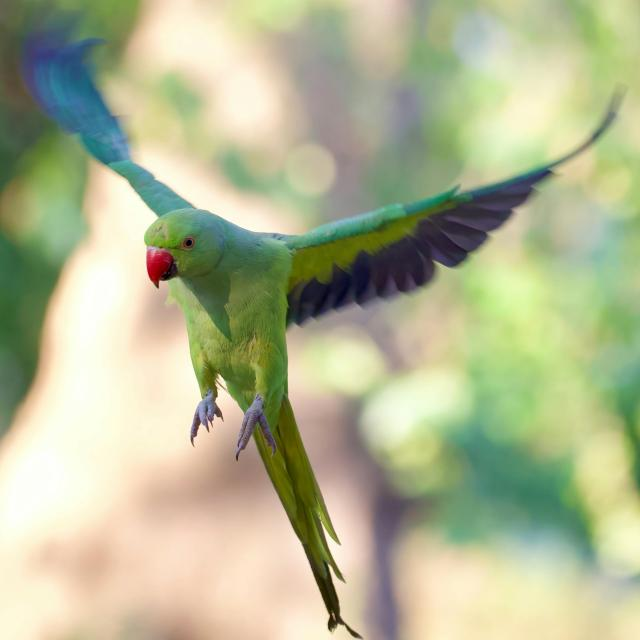Parrot: (30, 44, 547, 617)
